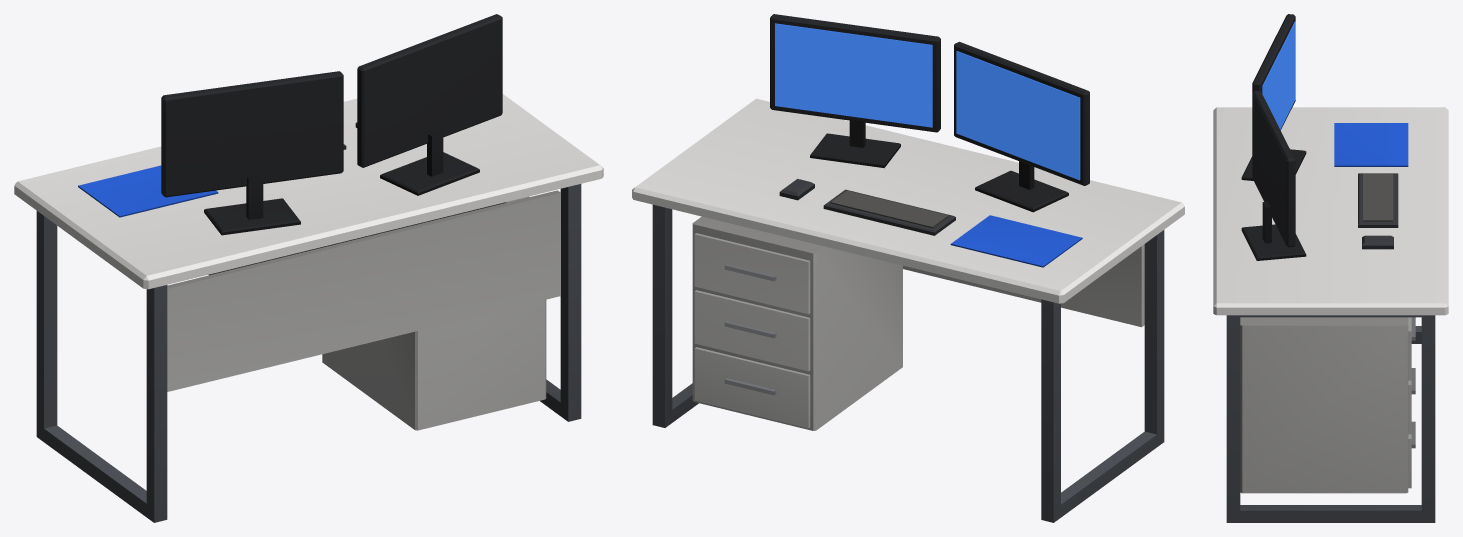
File: desk_standard_02.glb
3 renders of one model, left to right at view 1: azimuth 30°, elevation 25°; view 2: azimuth 150°, elevation 25°; view 3: azimuth 270°, elevation 25°, orthographic. The views are drawn at different scales.
Parts seen in each view (by area): view 1: desk_standard_02_mesh; view 2: desk_standard_02_mesh, desk_standard_02_screen; view 3: desk_standard_02_mesh, desk_standard_02_screen.
Part boxes in pixels (x1,y1,x2,y2): desk_standard_02_mesh: (14, 14, 603, 522); desk_standard_02_mesh: (632, 14, 1184, 522); desk_standard_02_screen: (775, 23, 1080, 180); desk_standard_02_mesh: (1213, 14, 1448, 522); desk_standard_02_screen: (1262, 21, 1295, 129).
Size of the model in its own units: 1.4 by 1.13 by 0.7001.
Materials: 2 (2 with a texture image).
